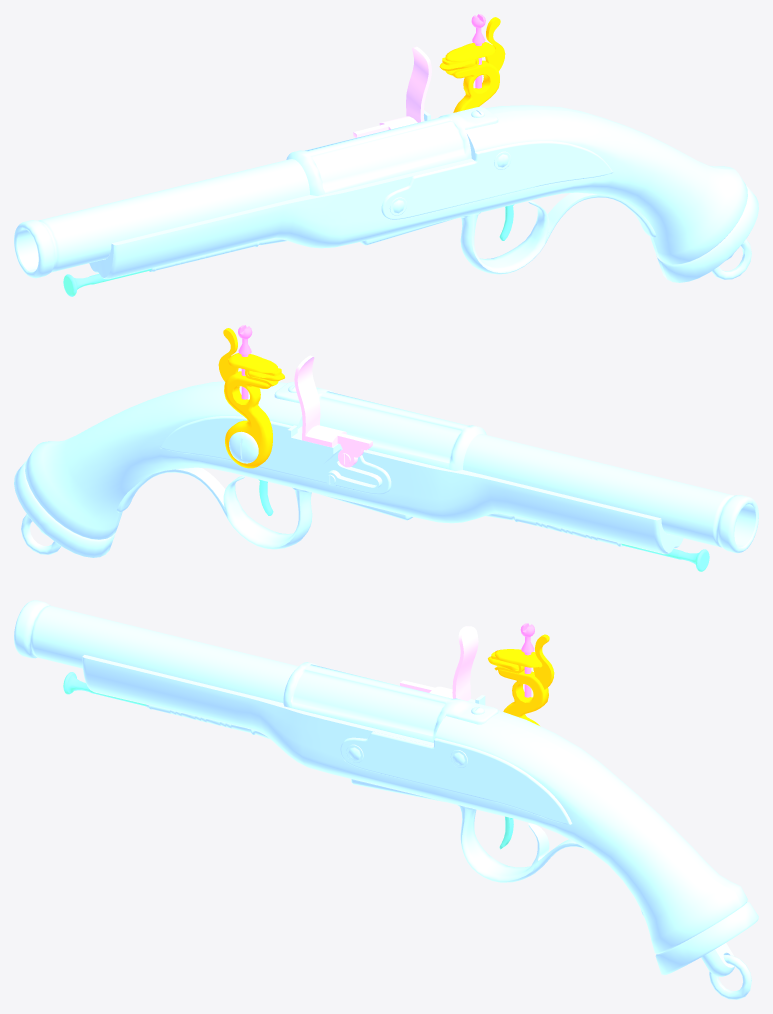
File: Pistols_Silver.fbx
3 views of the same model, one above another, from view 1: azimuth 30°, elevation 25°; view 2: azimuth 150°, elevation 25°; view 3: azimuth 330°, elevation 25° (orthographic).
Visible parts, largest first — view 1: 004-0-4, 008-0-8, 007-0-7, 005-0-5; view 2: 004-0-4, 008-0-8, 007-0-7, 005-0-5, 009-0-9; view 3: 004-0-4, 008-0-8, 007-0-7.
Part boxes in pixels (x1,y1,x2,y2): 004-0-4: (14,105,758,282); 008-0-8: (439,17,505,112); 007-0-7: (353,46,431,137); 005-0-5: (63,268,151,296); 004-0-4: (14,381,758,557); 008-0-8: (218,328,284,468); 007-0-7: (294,355,372,467); 005-0-5: (621,543,709,571); 009-0-9: (238,325,252,399); 004-0-4: (14,600,758,999); 008-0-8: (488,634,554,725); 007-0-7: (400,626,478,700).
Size of the model in its own units: 284 by 2164 by 858.
